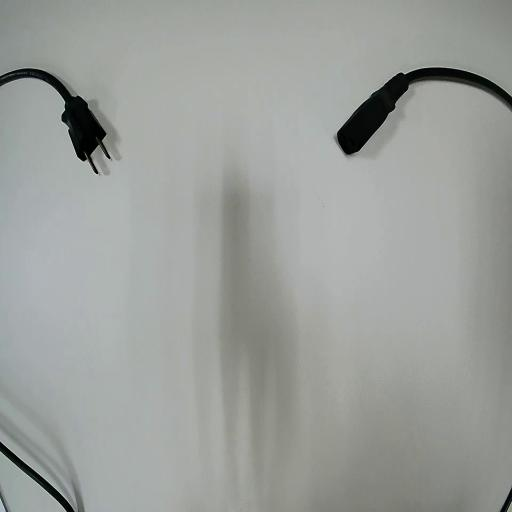wire: (337, 68, 511, 153), (0, 69, 107, 171)
